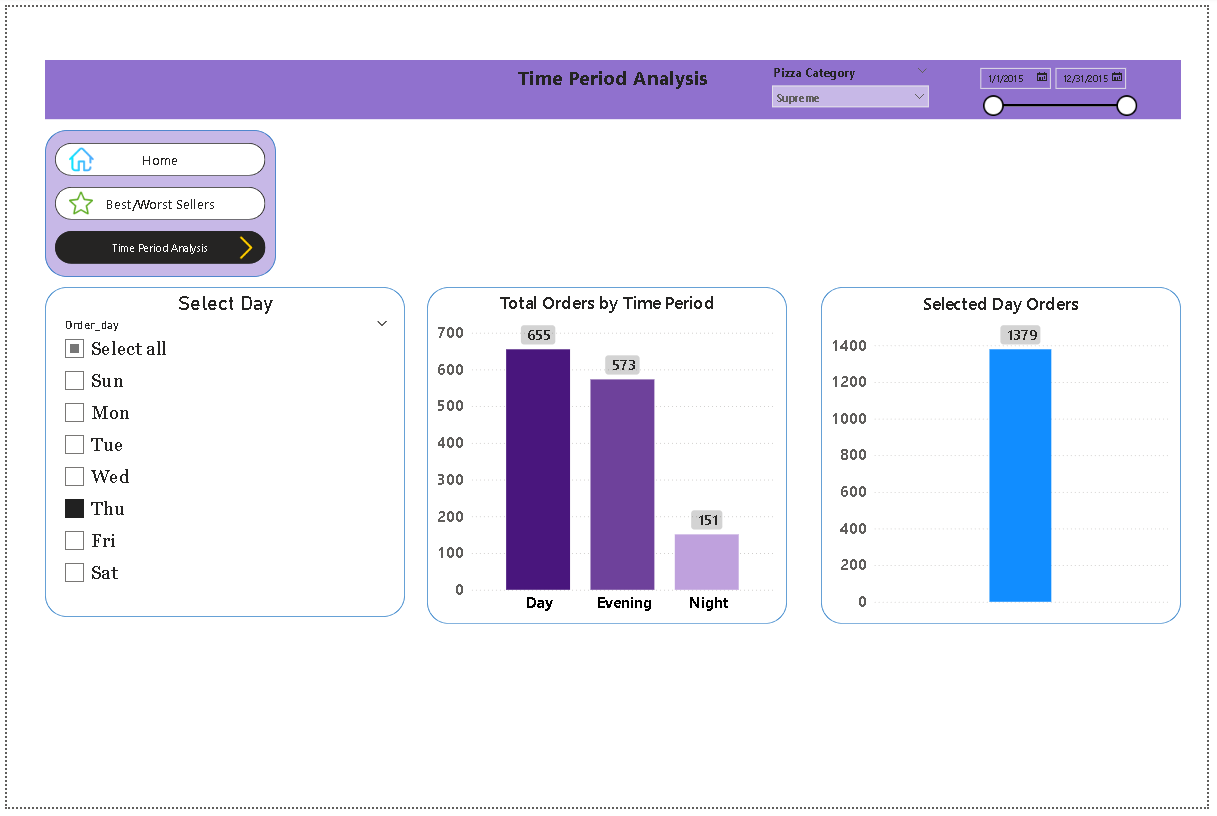

The page's visual inventory and layout, read from the dashboard file:
{"tool":"powerbi","page":{"name":"Time Period Analysis","canvas":[1500,1000],"ordinal":2},"visuals":[{"type":"shape","box":[1017.5,350,450,421.2],"z":0},{"type":"shape","box":[47.5,350,450,412.5],"z":1000},{"type":"shape","box":[525,350,450,421.2],"z":2000},{"type":"clusteredColumnChart","fields":{"Y":["Pizza_Sales.Total Orders"],"Category":["Pizza_Sales.Time Period"]},"box":[533.8,353.8,432.5,413.8],"z":3000},{"type":"slicer","title":"Select Day","fields":{"Values":["Pizza_Sales.Order_day"]},"box":[60,355,427.5,398.8],"z":4000},{"type":"clusteredColumnChart","title":"Selected Day Orders","fields":{"Y":["Pizza_Sales.Total Orders"]},"box":[1026.2,355,431.2,407.5],"z":5000},{"type":"textbox","box":[47.5,66.2,1420,73.8],"z":6000},{"type":"slicer","fields":{"Values":["Pizza_Sales.pizza_category"]},"box":[946.2,66.2,216.2,60],"z":7000},{"type":"slicer","fields":{"Values":["Pizza_Sales.order_date"]},"box":[1203.8,66.2,216.2,73.8],"z":8000},{"type":"shape","box":[47.5,154,288.8,183.8],"z":9000},{"type":"pageNavigator","box":[60,170,263.8,41.2],"z":10000},{"type":"pageNavigator","box":[60,225,263.8,41.2],"z":11000},{"type":"pageNavigator","box":[60,280,263.8,41.2],"z":12000},{"type":"image","box":[282.2,286.7,33.3,28.9],"z":13000},{"type":"image","box":[77.4,174.7,31.1,31.6],"z":14000},{"type":"image","box":[77.1,230,30,30.7],"z":15000}]}

Visuals, with their boxes in screenshot pixels (x1, y1, x2, y2), scaled from the page's 1500x1000 canvas onto the 1217x816 screenshot:
shape: {"left": 826, "top": 286, "right": 1191, "bottom": 629}
shape: {"left": 39, "top": 286, "right": 404, "bottom": 622}
shape: {"left": 426, "top": 286, "right": 791, "bottom": 629}
clusteredColumnChart - Pizza_Sales.Total Orders x Pizza_Sales.Time Period: {"left": 433, "top": 289, "right": 784, "bottom": 626}
"Select Day" slicer: {"left": 49, "top": 290, "right": 396, "bottom": 615}
"Selected Day Orders" clusteredColumnChart: {"left": 833, "top": 290, "right": 1182, "bottom": 622}
textbox: {"left": 39, "top": 54, "right": 1191, "bottom": 114}
slicer - Pizza_Sales.pizza_category: {"left": 768, "top": 54, "right": 943, "bottom": 103}
slicer - Pizza_Sales.order_date: {"left": 977, "top": 54, "right": 1152, "bottom": 114}
shape: {"left": 39, "top": 126, "right": 273, "bottom": 276}
pageNavigator: {"left": 49, "top": 139, "right": 263, "bottom": 172}
pageNavigator: {"left": 49, "top": 184, "right": 263, "bottom": 217}
pageNavigator: {"left": 49, "top": 228, "right": 263, "bottom": 262}
image: {"left": 229, "top": 234, "right": 256, "bottom": 258}
image: {"left": 63, "top": 143, "right": 88, "bottom": 168}
image: {"left": 63, "top": 188, "right": 87, "bottom": 213}
